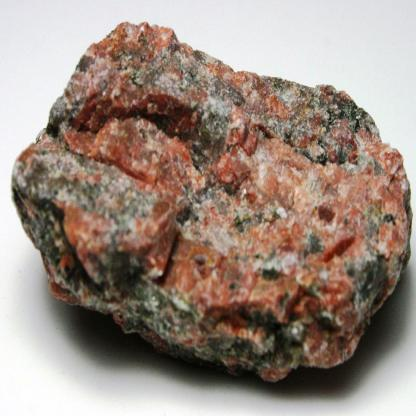Igneous_Granite: (5, 23, 412, 383)
